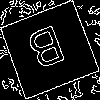B: (24, 24, 71, 79)
